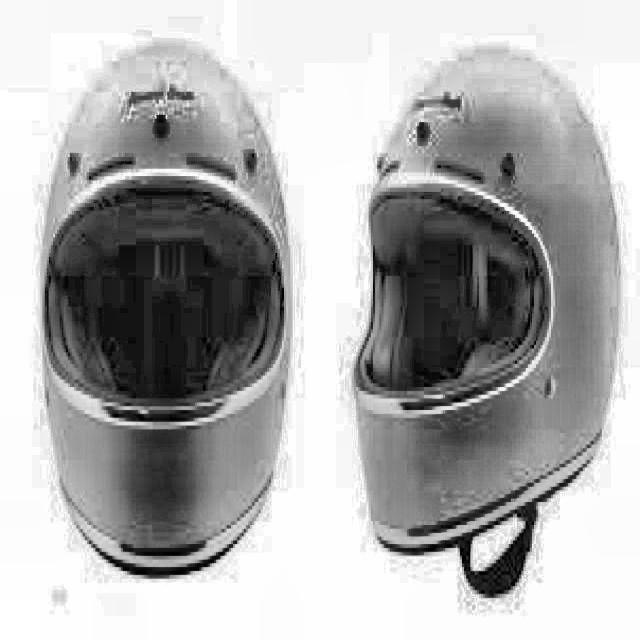Helmet: (346, 45, 626, 608), (29, 38, 307, 598)
